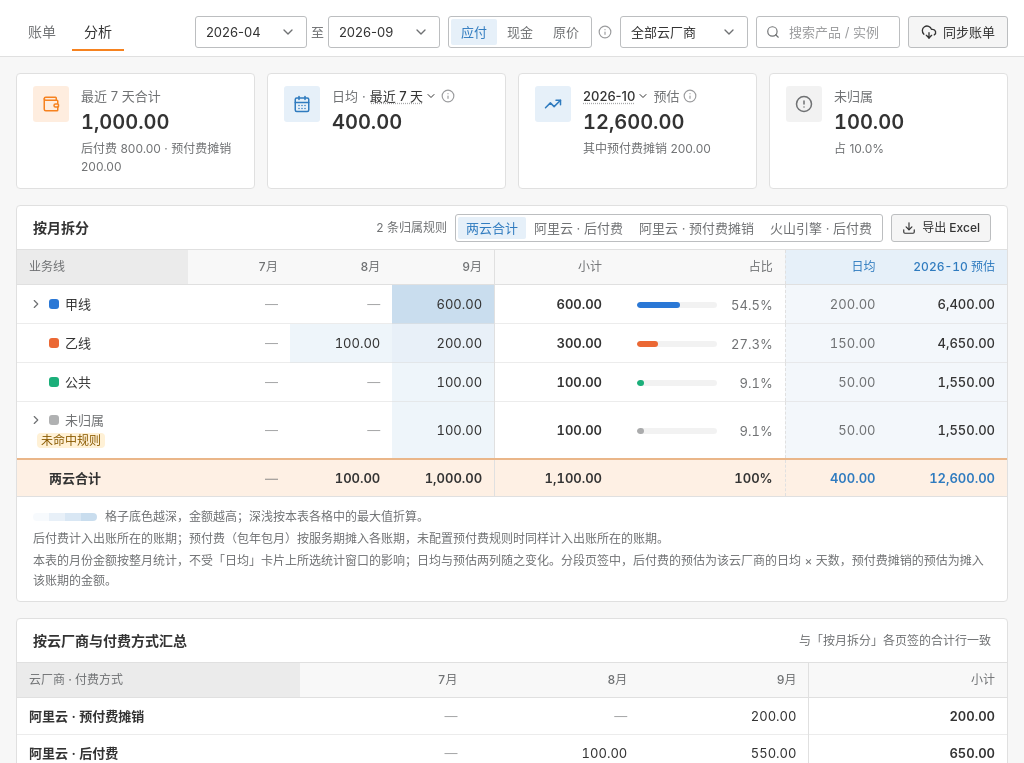
Scenario: 费用页 › 分析视图把账单摊到业务线，并按日均给出月度预估
The width and height of the screenshot is (1024, 763).
Expected: the text "日均" is shown, [332,88,358,104]
Expected: the text "400.00" is shown, [332,110,402,134]
Click the button "阿里云 · 后付费". click: (578, 228)
box: [526,216,631,238]
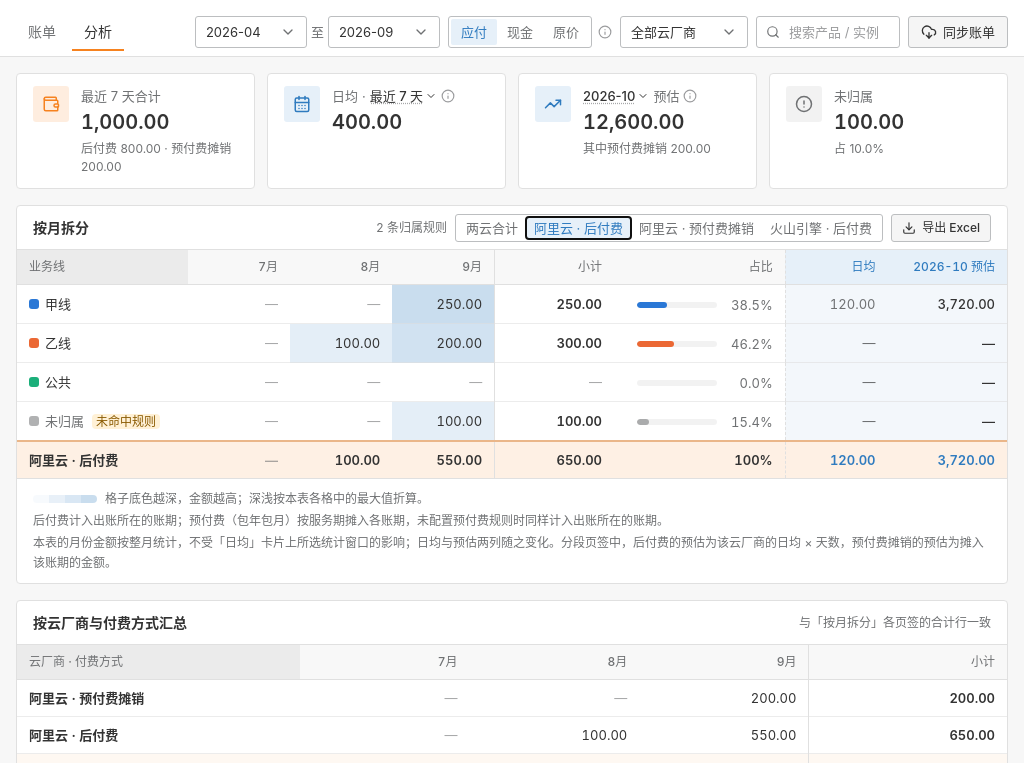
Now the text "650.00" next to "100%" is shown, box [556,452,602,468]
Now the text "3,720.00" in the row of "38.5" is shown, box [938,296,995,312]
// 预付费摊销页签：预估就是摊入 10 月的金额，不按天计
Click the button "阿里云 · 预付费摊销". click: (697, 228)
box: [631,216,762,238]
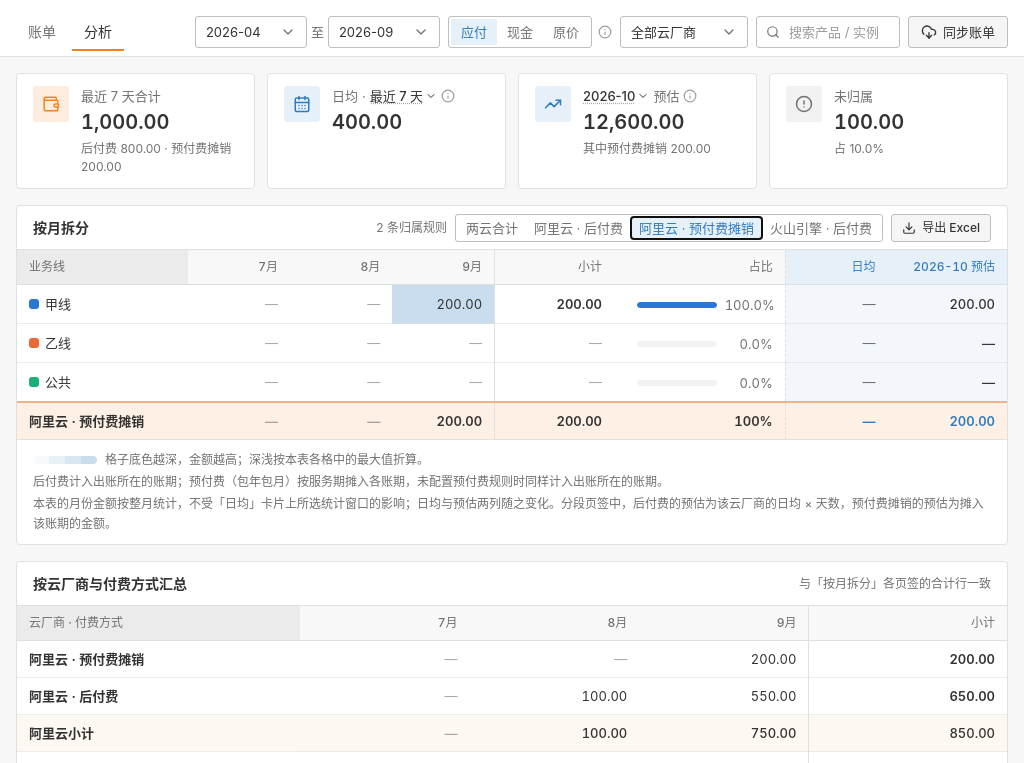
Now the 1st text "200.00" is shown, box [436,296,482,312]
Click the button "两云合计". click: (492, 228)
box: [458,216,526,238]
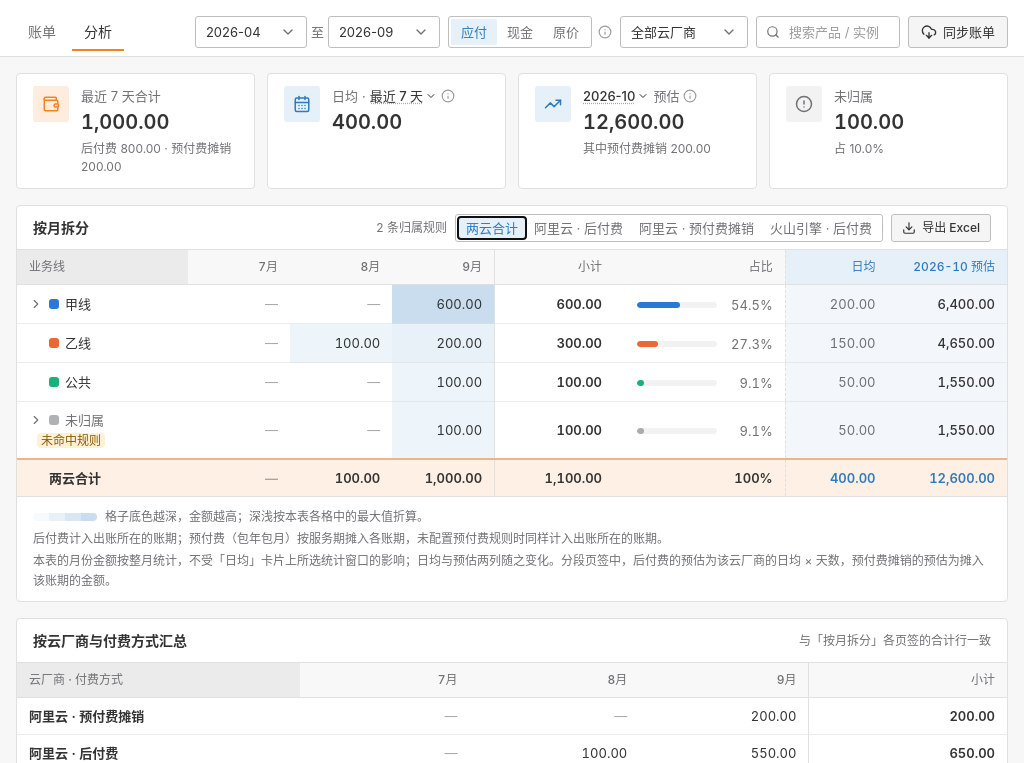
Expected: the column heading "阿里云 · 预付费摊销" is shown, [17,698,300,734]
// 展开甲线，看得到它由哪两条规则构成
Click the button "甲线". click: (60, 304)
box: [29,294,91,314]
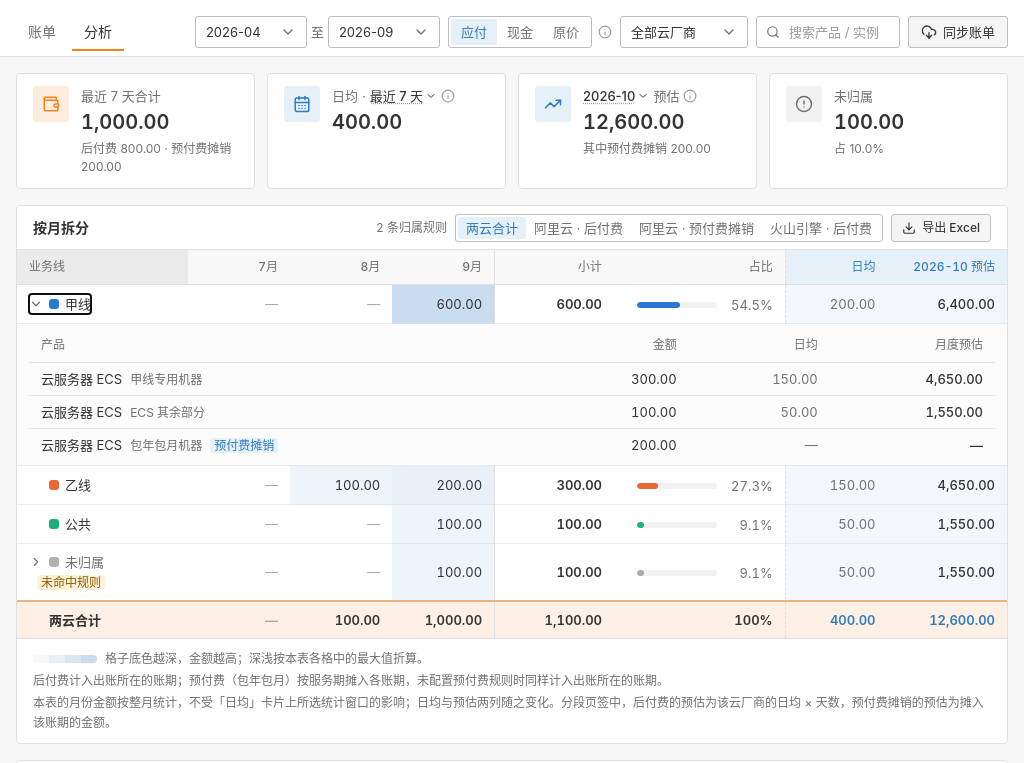
Now the text "甲线专用机器" is shown, box [130,372,202,387]
Now the text "ECS 其余部分" is shown, box [130,405,205,420]
Now the text "预付费摊销" is shown, box [210,438,278,453]
// 点这一行的其他位置（小计那一格）同样能收起
Click the 1st text "600.00". click: (459, 304)
box: [436,296,482,312]
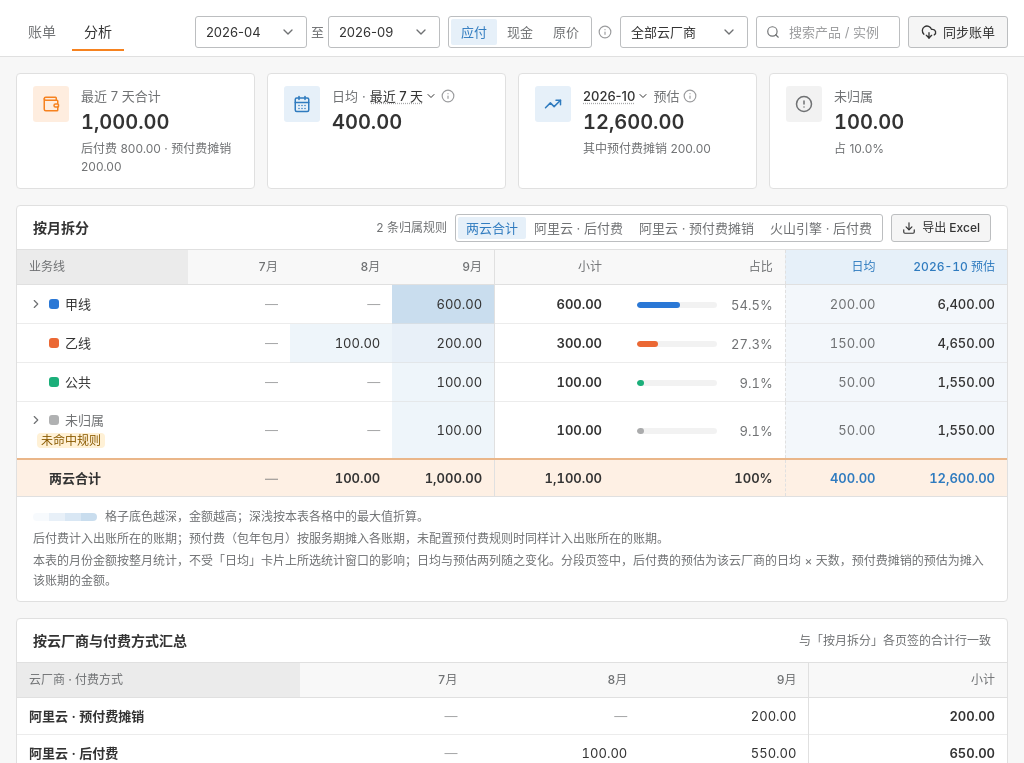
Now the text "甲线专用机器" is gone
